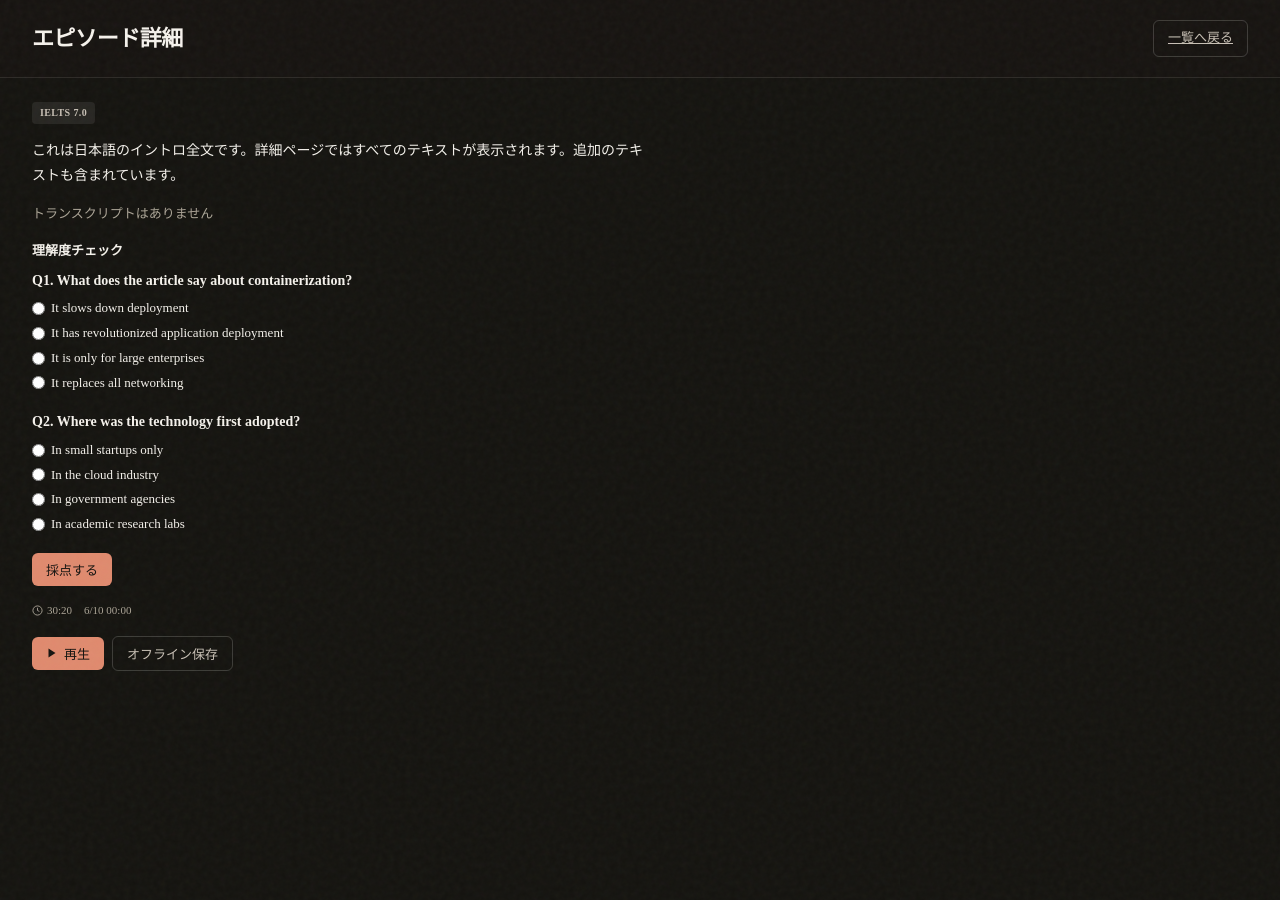
Test: PodcastDetailPage — comprehension quiz (ADR-070) › Shows the score and per-question correct/incorrect feedback from the graded response
The width and height of the screenshot is (1280, 900).
Expected: the heading "理解度チェック" is shown, [32,243,123,258]
What coordinates should you click on to do the following:
click the radio button labelled "It has revolutionized application deployment"
I would click on:
 (38, 333)
Its box is [32,327,45,340].
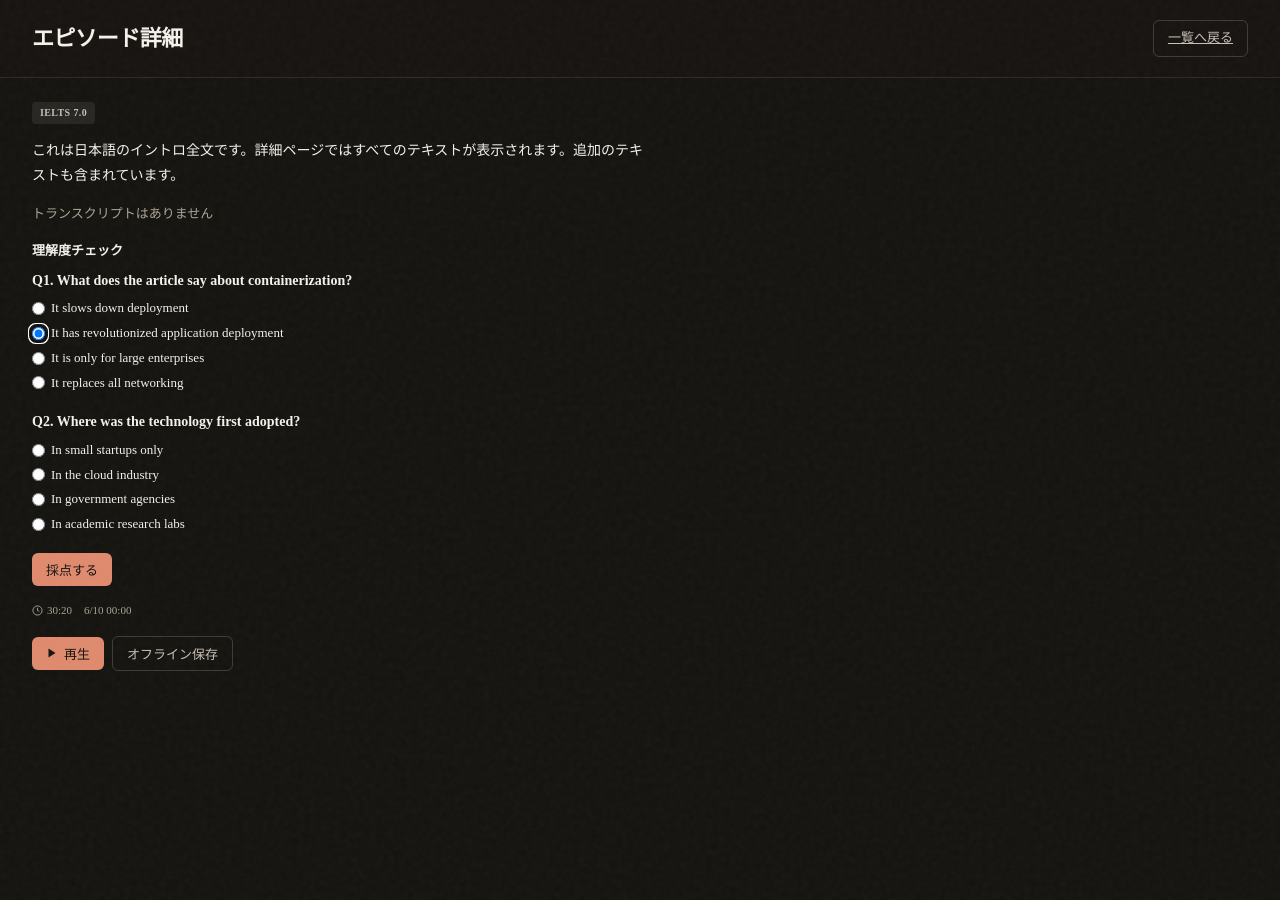
What coordinates should you click on to do the following:
click the radio button labelled "In small startups only"
I would click on:
 (38, 450)
Its box is [32,444,45,457].
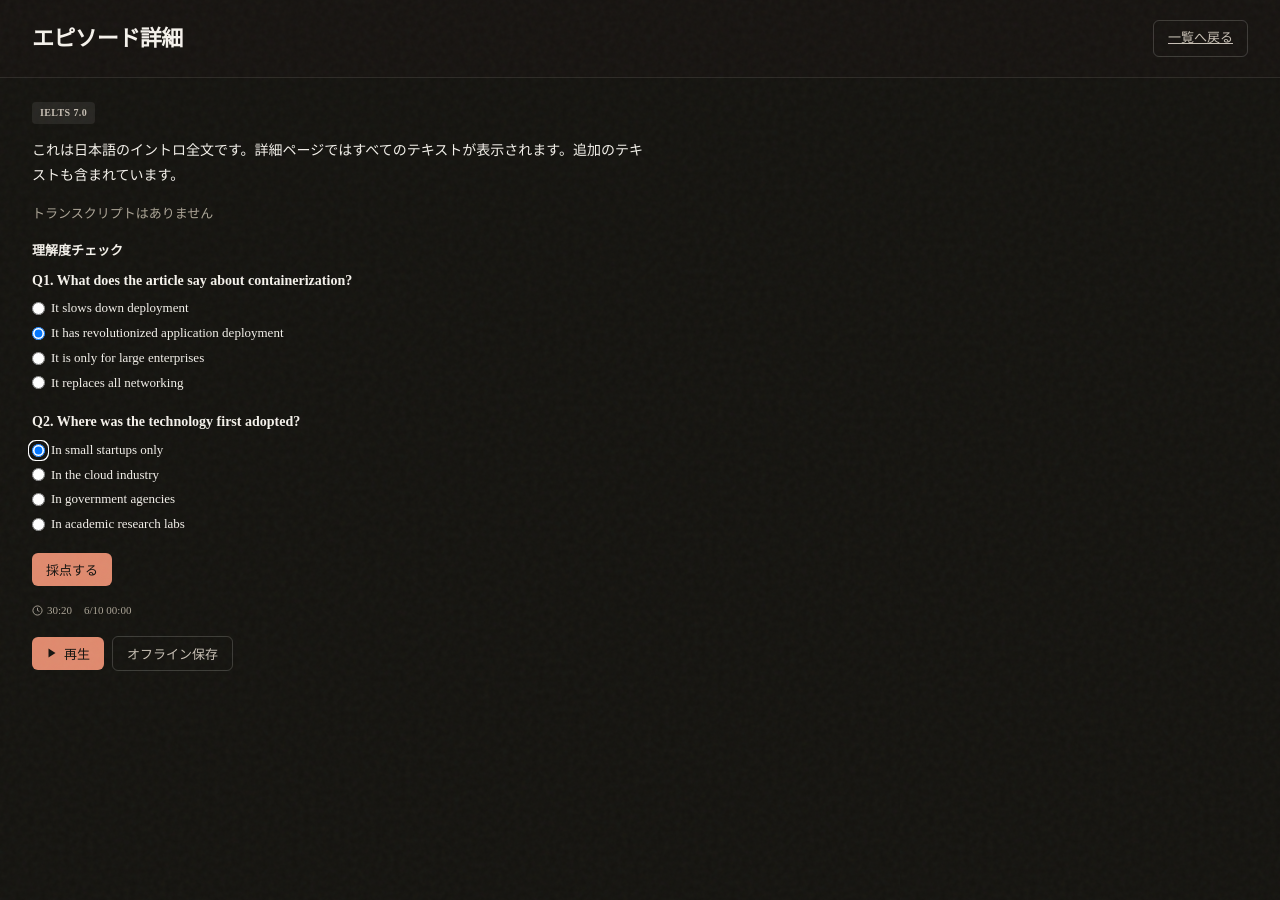
What coordinates should you click on to do the following:
click the button "採点する"
I would click on:
 (72, 569)
Its box is [32,553,112,586].
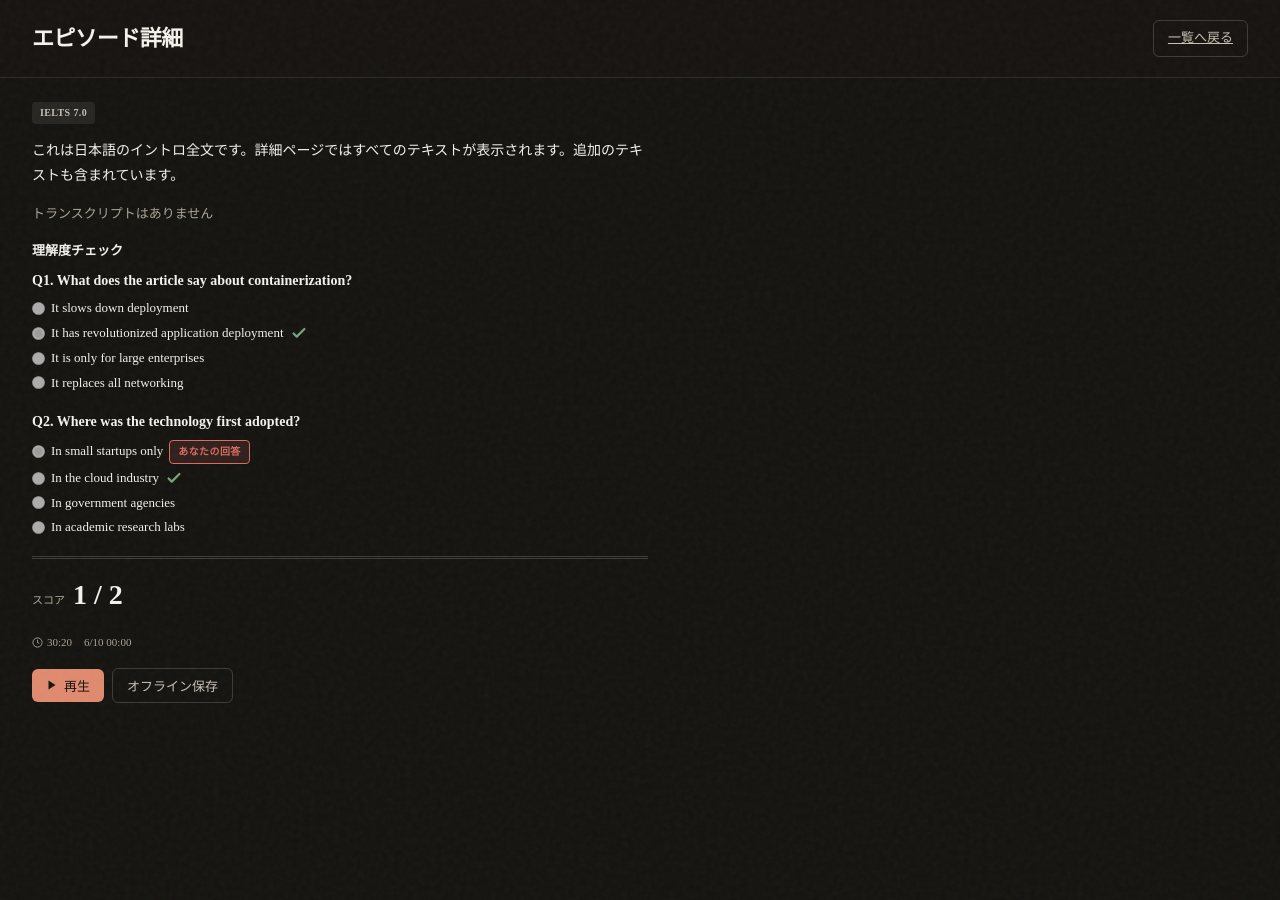
Expected: the text "スコア 1 / 2" is shown, [32,573,123,618]
Expected: the text "あなたの回答" is shown, [169,440,250,464]
